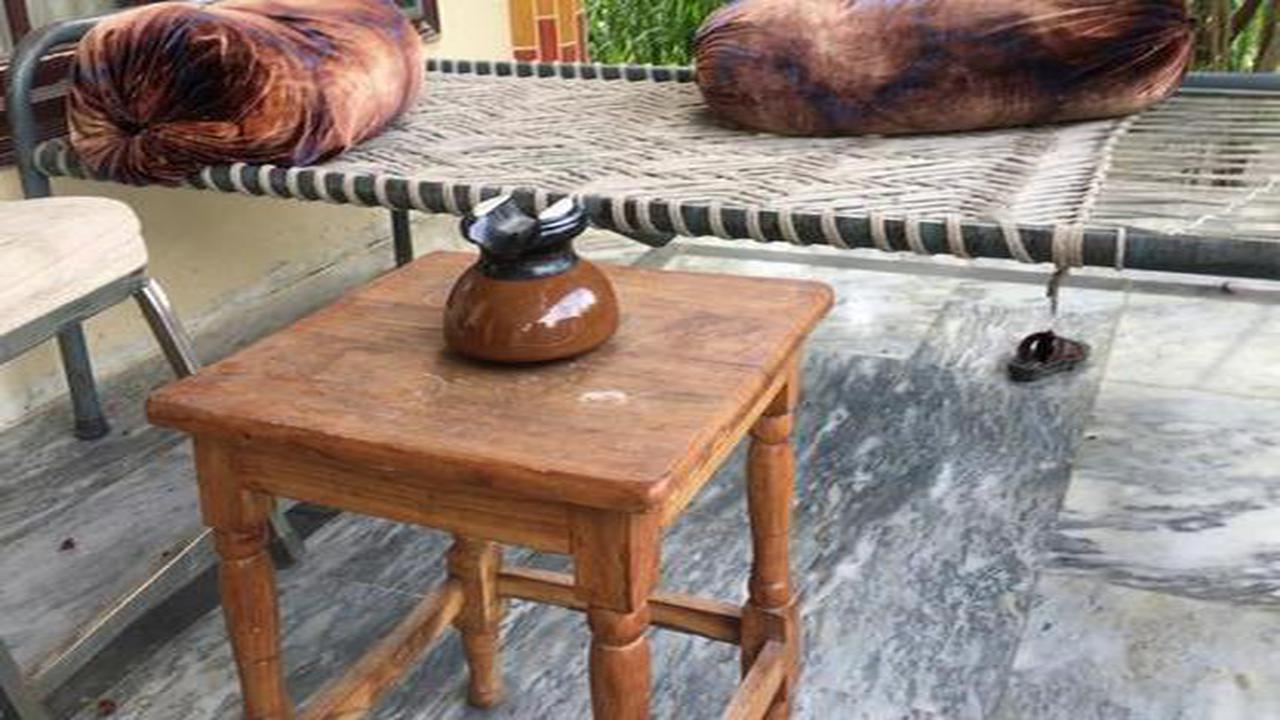insulator_pin: (425, 168, 644, 380)
